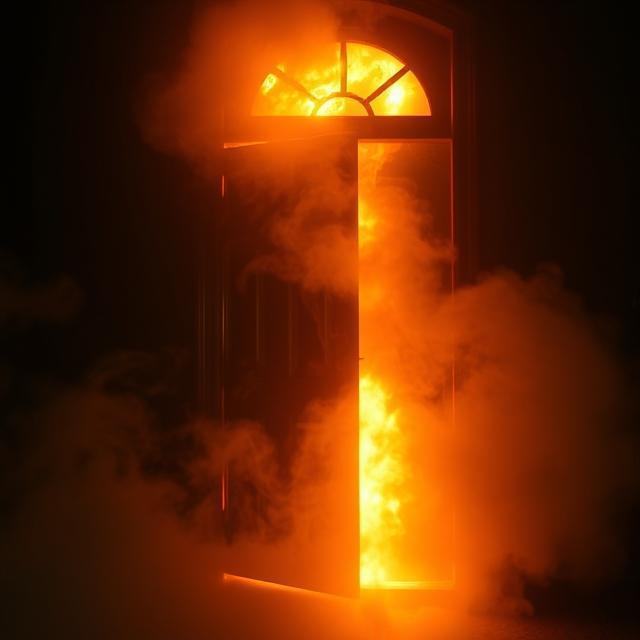fire: (0, 390, 284, 640), (434, 260, 614, 640), (136, 0, 357, 195)
smoke: (243, 39, 436, 125), (352, 363, 413, 588)
